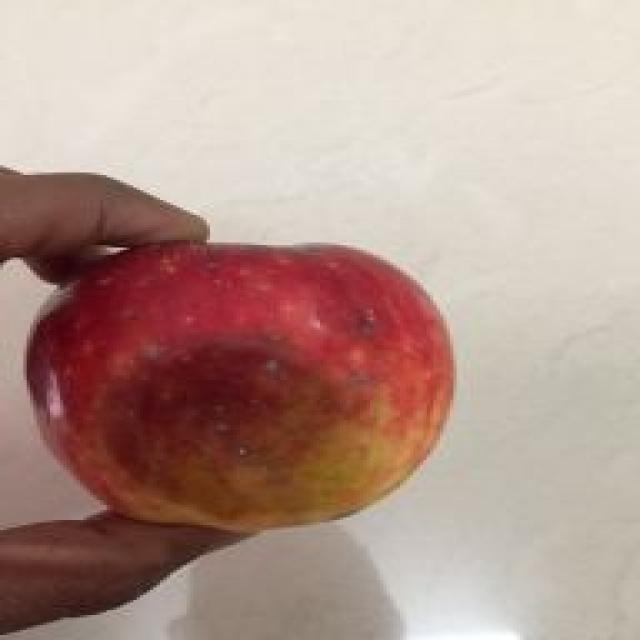Rotten_Apple: (31, 212, 485, 578)
